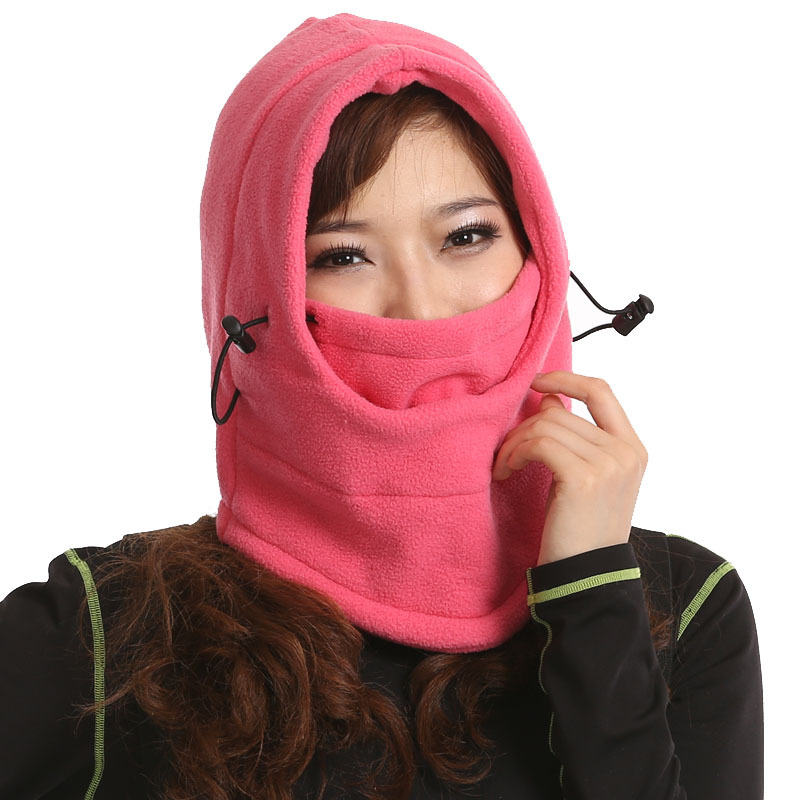face: (268, 92, 530, 452)
